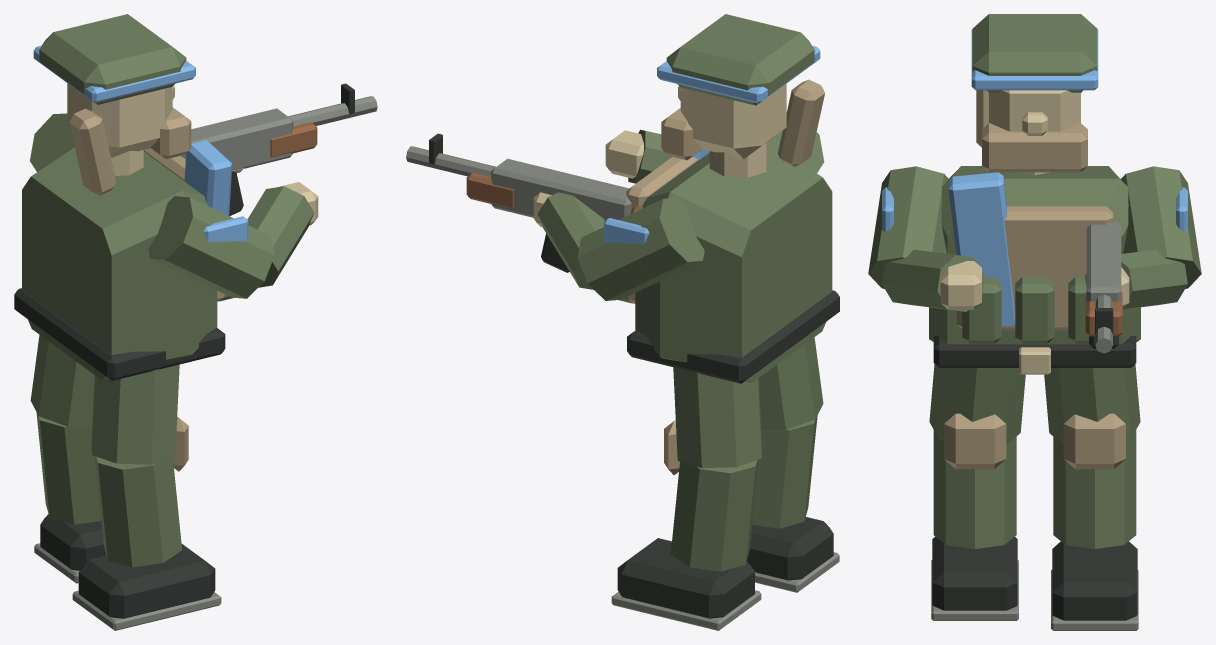
The model's file is rebel.glb.
The picture shows the model from 3 angles, left to right: view 1: azimuth 30°, elevation 25°; view 2: azimuth 150°, elevation 25°; view 3: azimuth 270°, elevation 25°; orthographic projection. The views are drawn at different scales.
Visible parts, largest first — view 1: rebel; view 2: rebel; view 3: rebel.
Boxes of the visible parts, x1,y1,x2,y2 form: rebel: [14, 14, 377, 630]; rebel: [406, 14, 839, 630]; rebel: [868, 14, 1201, 630].
Bounding box in the file's own units: 0.93 × 1.37 × 0.74.
